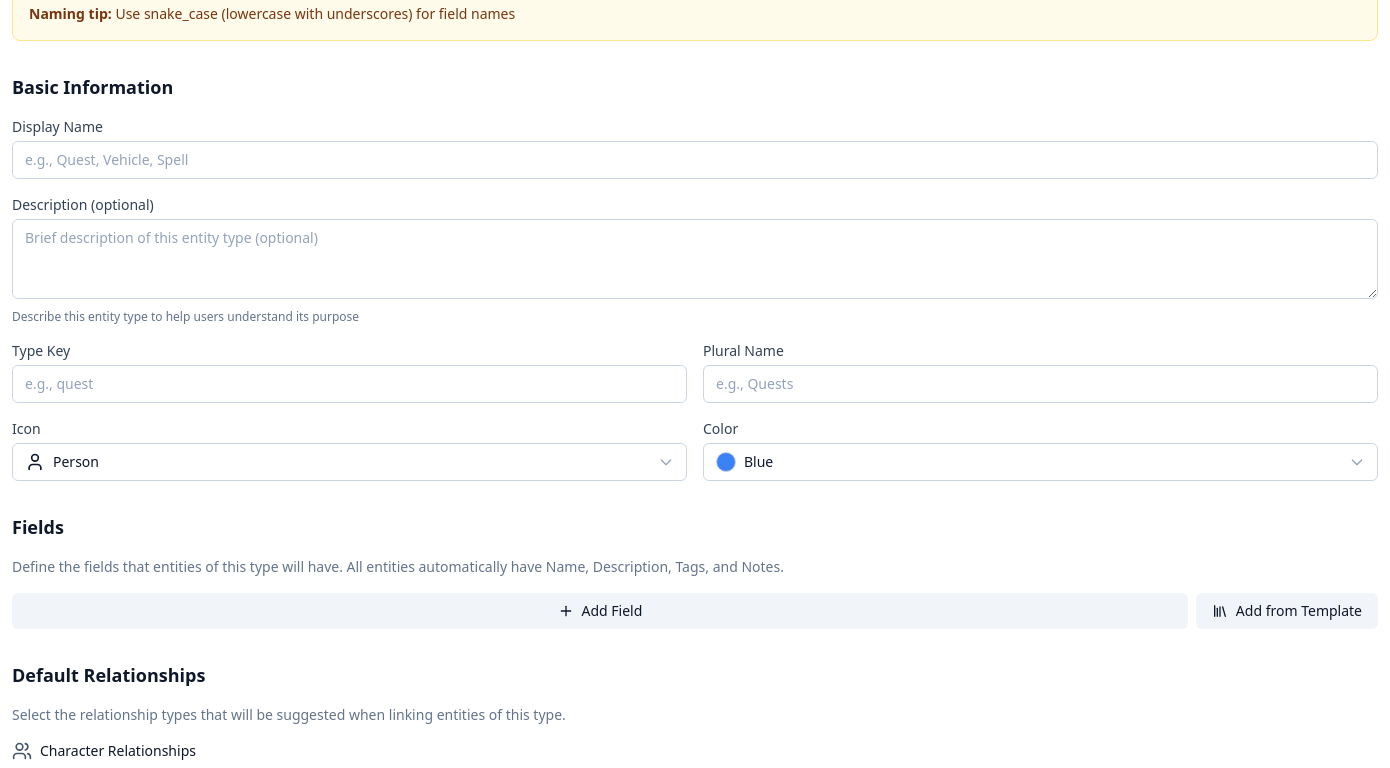
Test: CustomEntityTypeForm - Improved Validation Messages (Issue #25 Phase 2) › should show multiple validation errors simultaneously
The width and height of the screenshot is (1390, 768).
(page scrolled)
Clear plural name
Clear the field labelled "Plural Name" at (1040,384), box [703,365,1378,403]
(page scrolled)
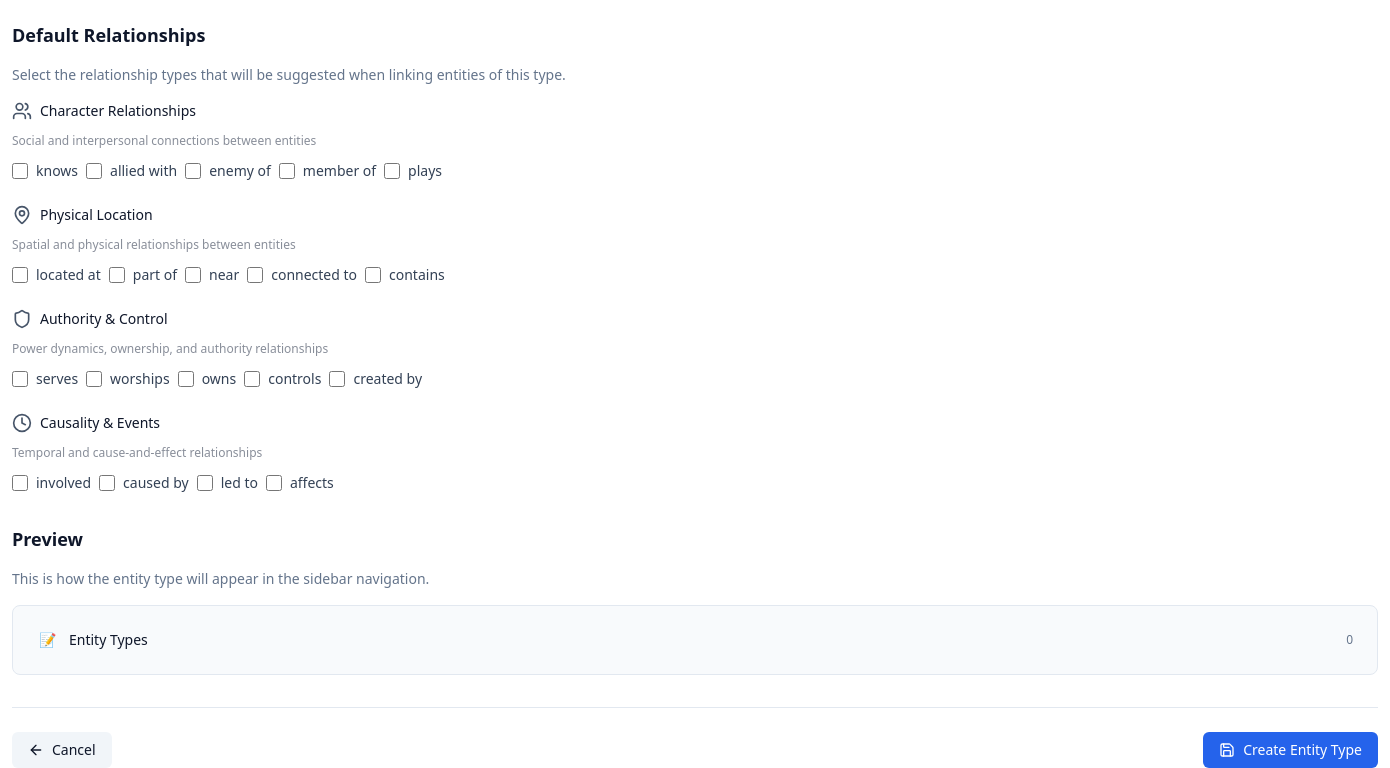
Click the button "Create Entity Type" at (1291,750), box [1203,732,1378,767]
(page scrolled)
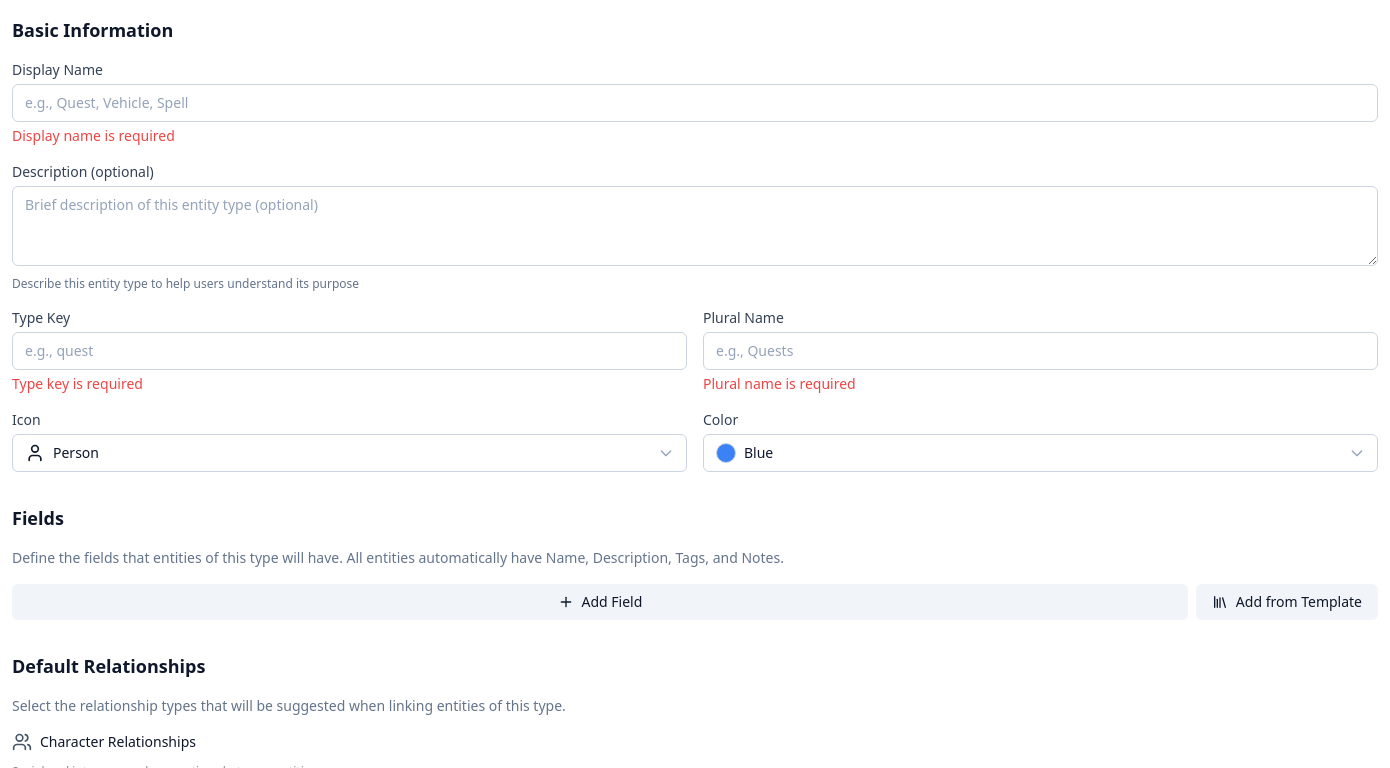
Now the text "Display name is required" is shown, box [12,126,175,145]
Now the text "Plural name is required" is shown, box [703,374,856,393]
